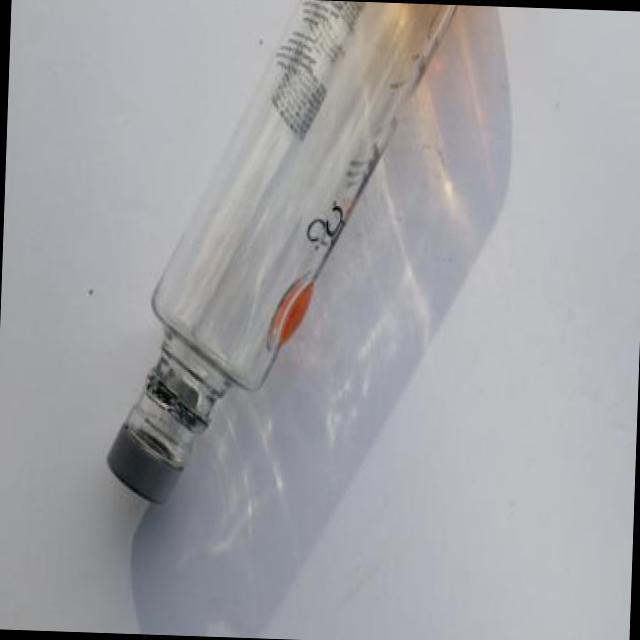chai_thuy_tinh: (107, 0, 457, 502)
